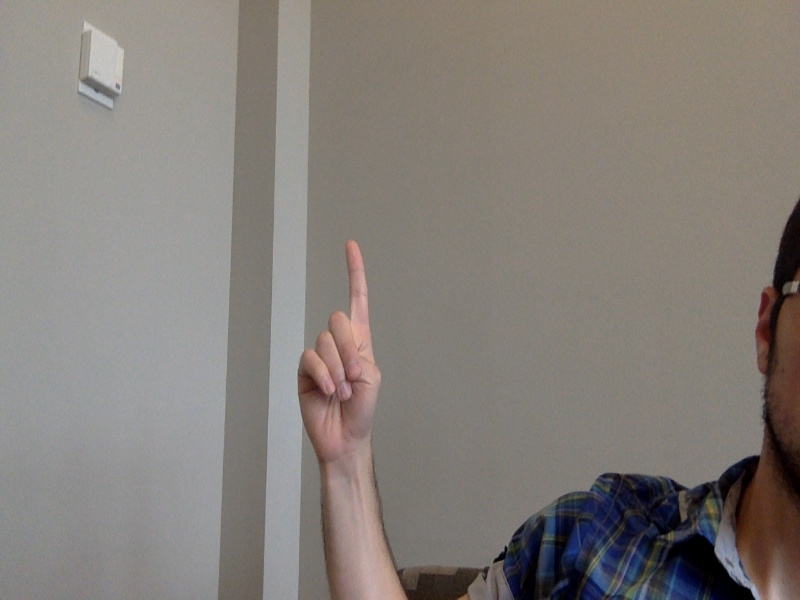1-hand: (297, 239, 384, 465)
